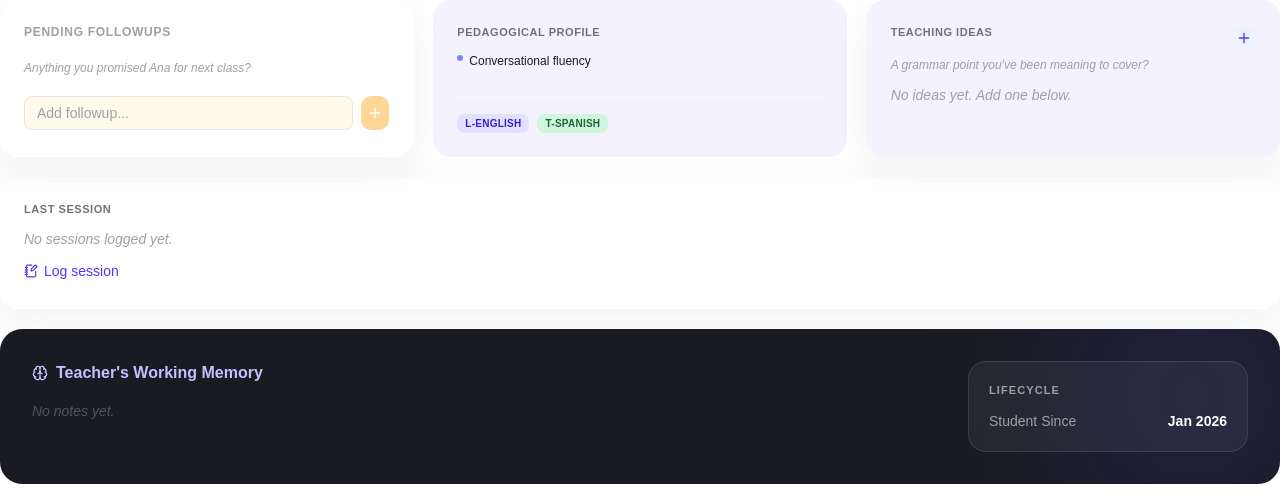
StudentOverviewTab - PedagogicalProfileCard › shows tooltip explaining target language on hover
Hover over the text with test id "target-language-tag": (573, 123) [538, 114, 608, 132]
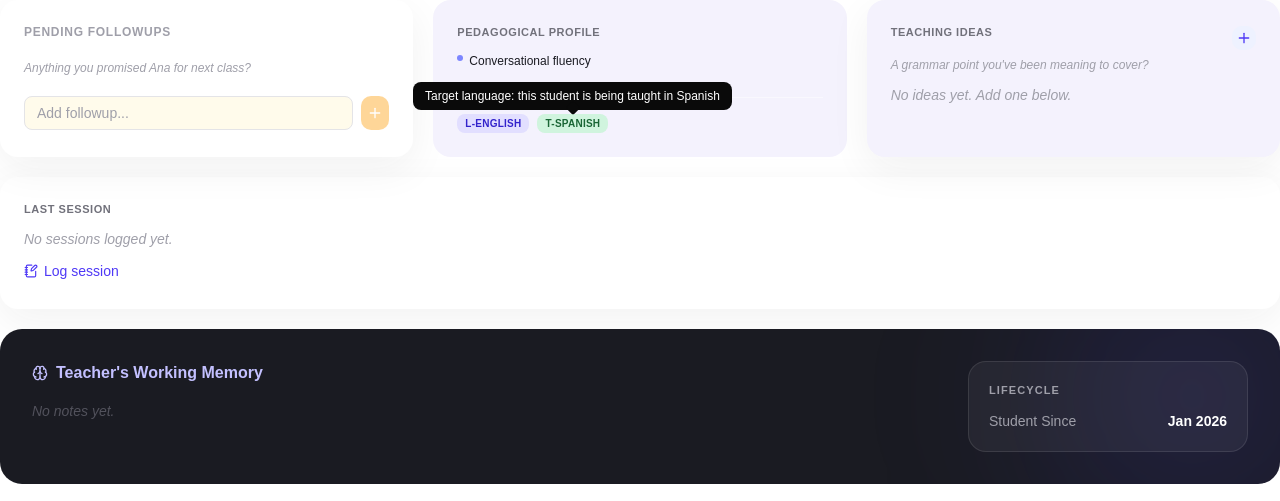
Expected: the text "Target language: this student is being taught in Spanish" is shown, [413, 82, 732, 110]
